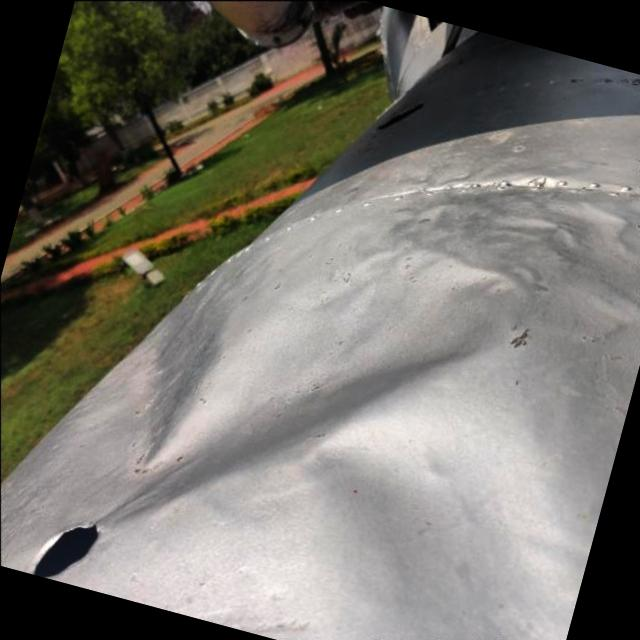dent: (51, 115, 544, 616), (505, 155, 640, 269)
